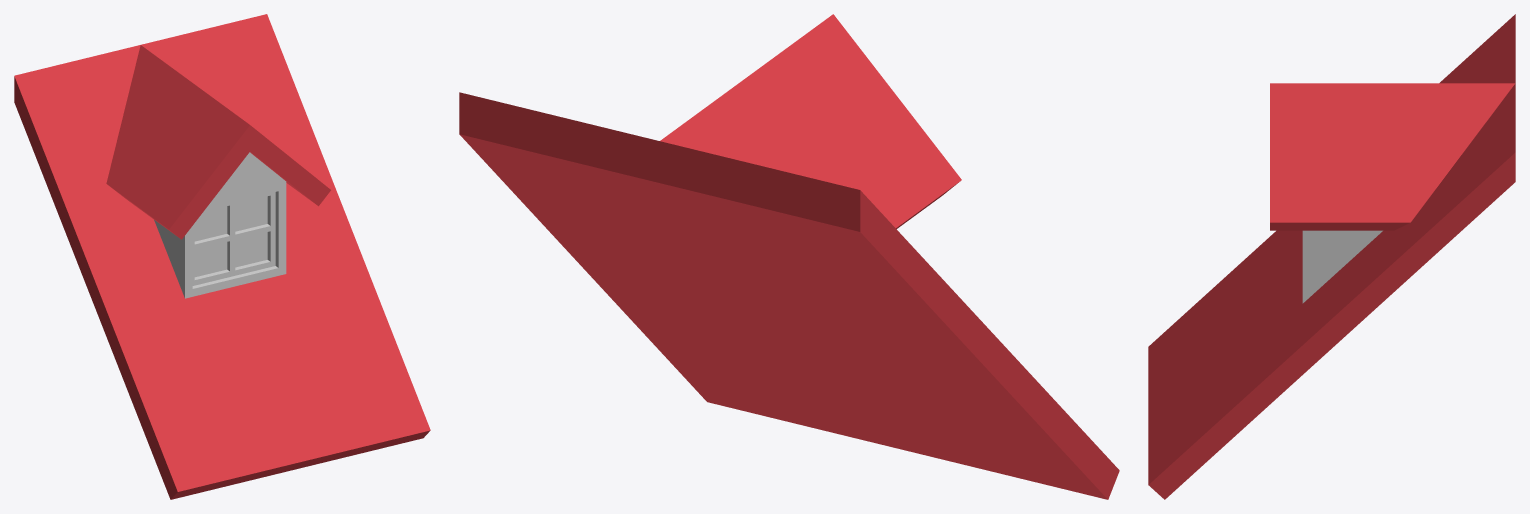
Rendered from roof_dormer1.glb.
3 views of the same model, side by side, from view 1: azimuth 30°, elevation 25°; view 2: azimuth 150°, elevation 25°; view 3: azimuth 270°, elevation 25° (orthographic). The views are drawn at different scales.
Parts seen in each view (by area): view 1: roof_dormer1; view 2: roof_dormer1; view 3: roof_dormer1.
Part boxes in pixels (left/top/right/bottom): roof_dormer1: left=14, top=14, right=430, bottom=499; roof_dormer1: left=459, top=14, right=1119, bottom=499; roof_dormer1: left=1148, top=14, right=1515, bottom=499.
Bounding box in the file's own units: 1 × 1.17 × 1.12.
